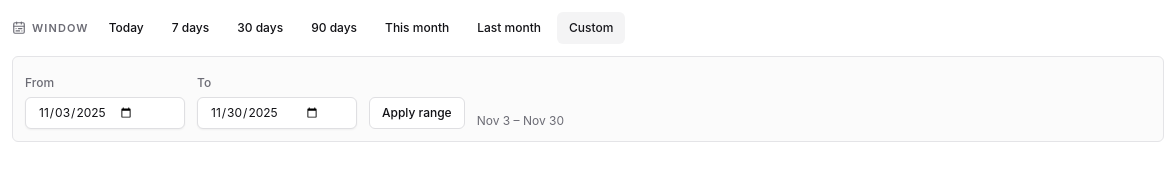
it: DateRangePicker presets › will not apply a half-filled custom range
Clear the date field labelled "To" at (277, 113), box [197, 97, 357, 129]
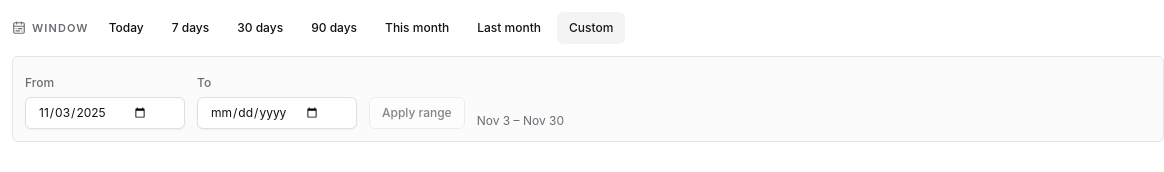
Result: the button "Apply range" is disabled at [369, 97, 465, 129]
